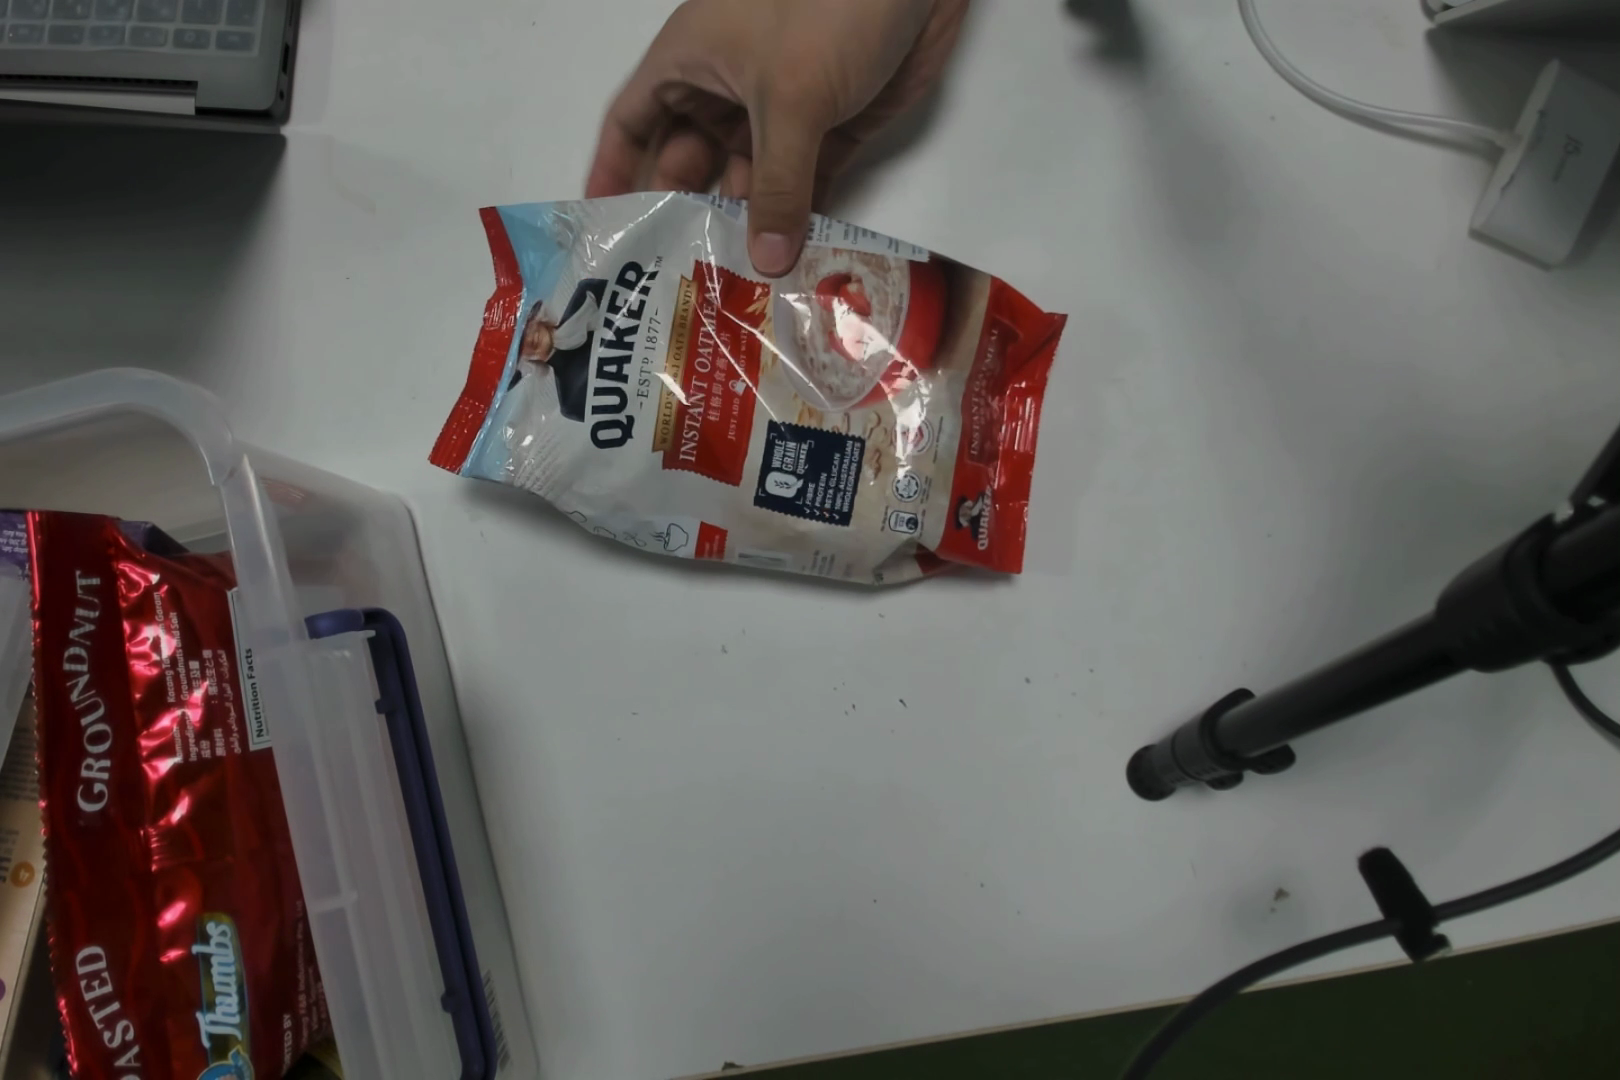RolledOatsInstantOatmeal_400-499g_Halal_Healthy: (474, 184, 1060, 583)
